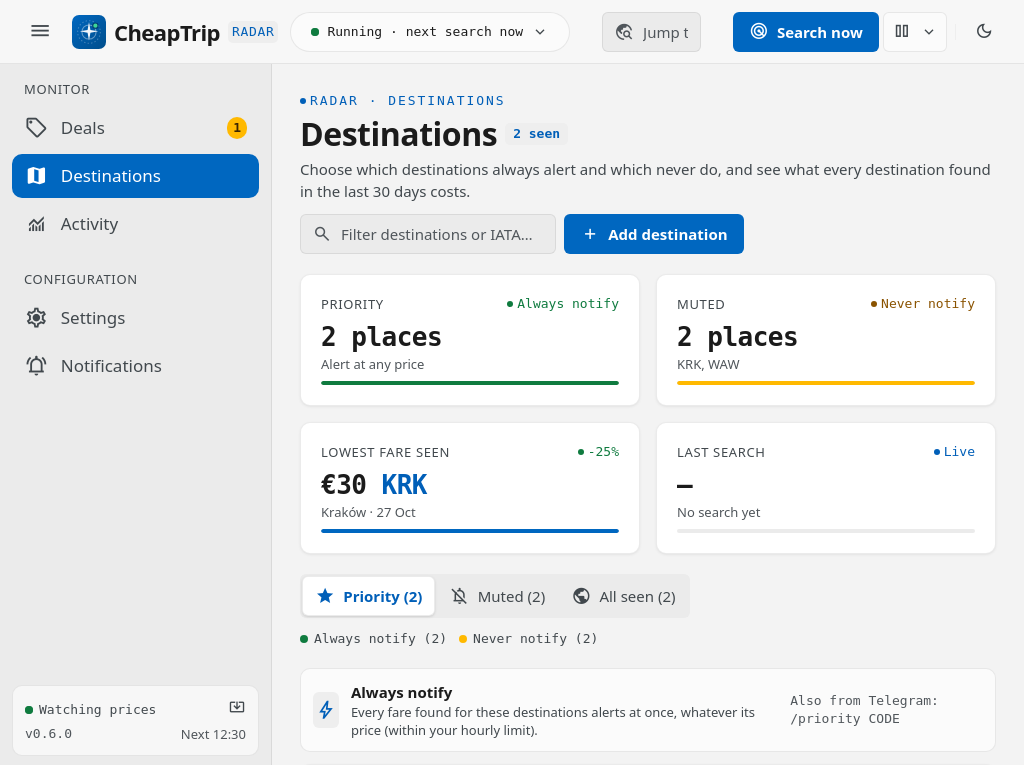
Test: Destinations › adds a destination from the dialog
Click the button "Add destination".
click(654, 234)  # box [564,214,744,254]
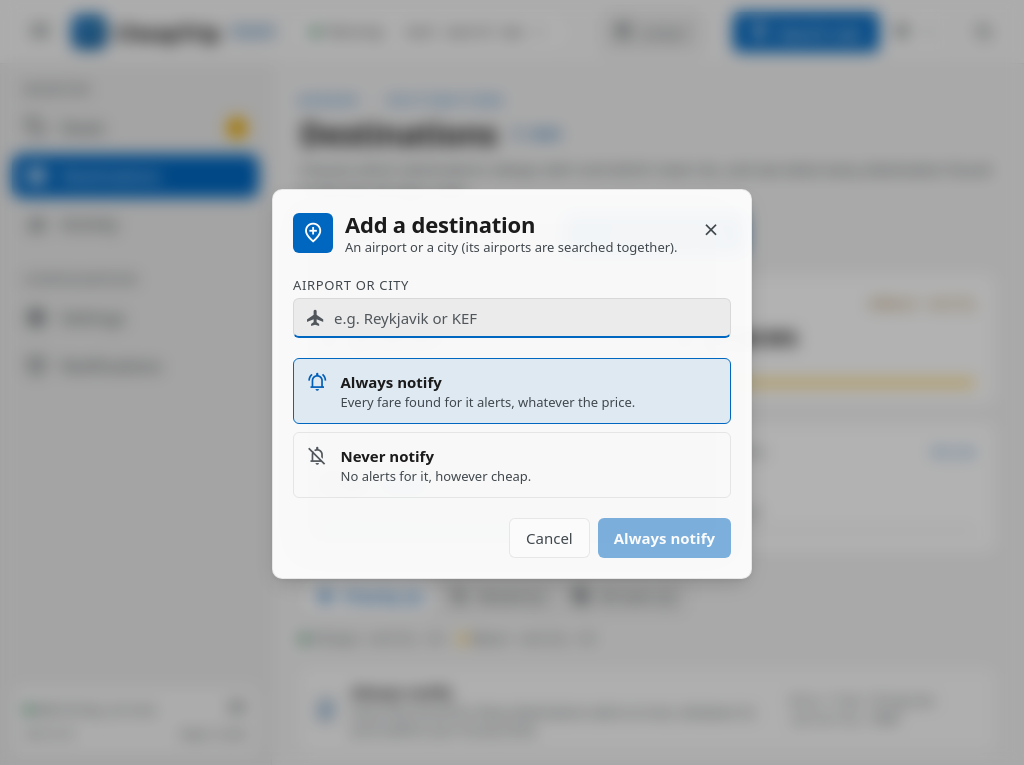
Type "reyk" into the dropdown.
click(512, 318); type("reyk")  # box [293,298,731,338]
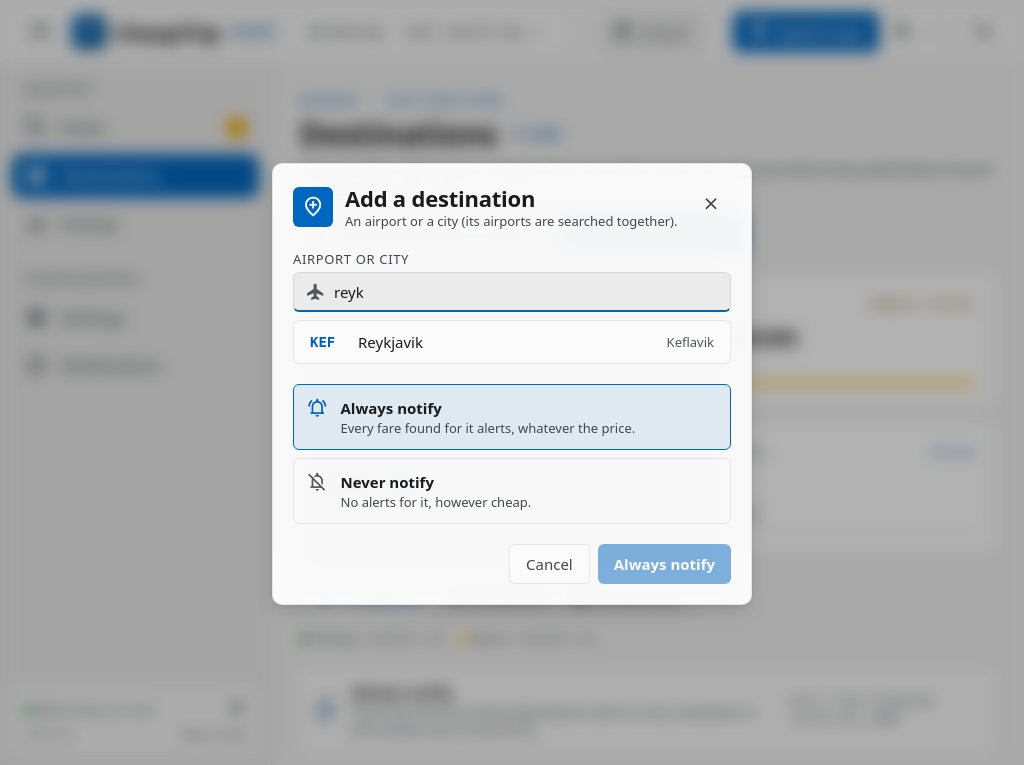
Click the option "KEF Reykjavik Keflavik".
click(390, 342)  # box [298,325,726,359]
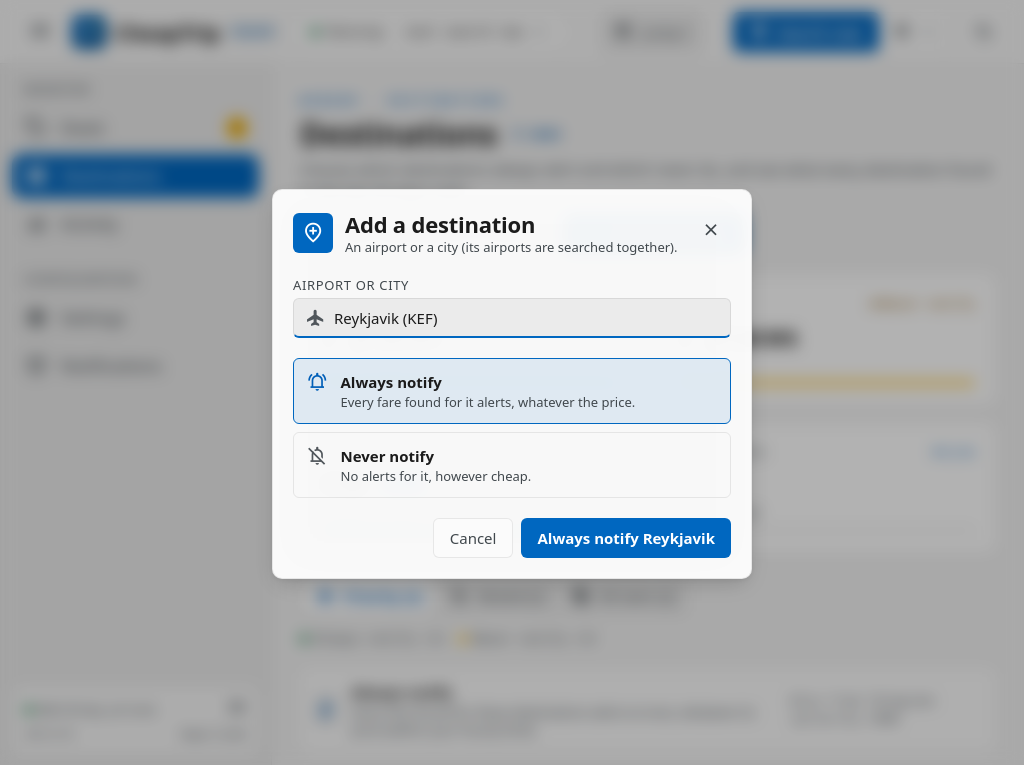
Click the button "Always notify Reykjavik".
click(626, 538)  # box [522,518,731,558]
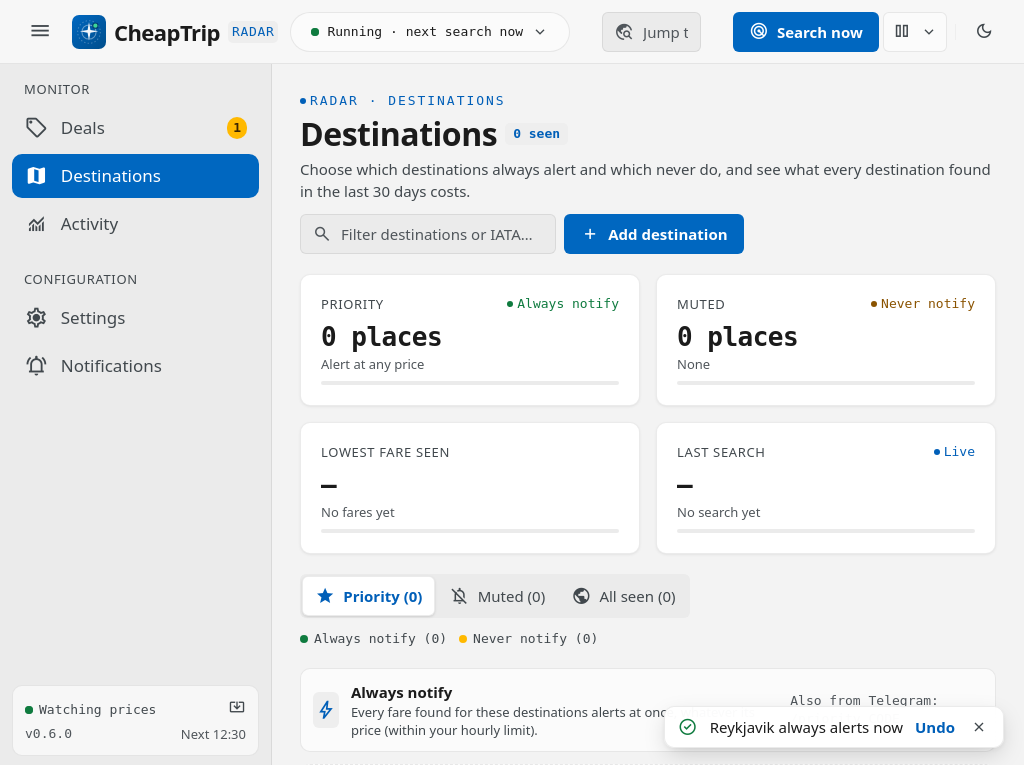
Expected: the text "Reykjavik always alerts now" is shown, [710,716,903,738]
